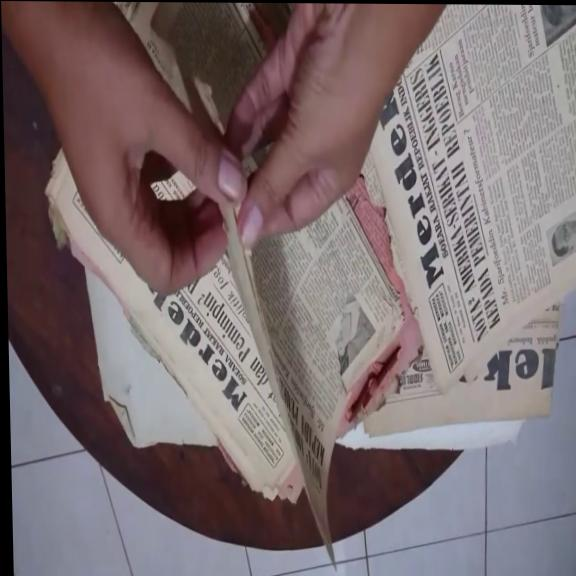Kertas: (49, 16, 309, 507), (361, 3, 576, 400)
